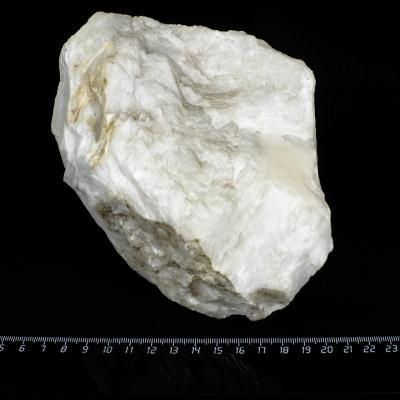mineralogy: (50, 12, 334, 323)
